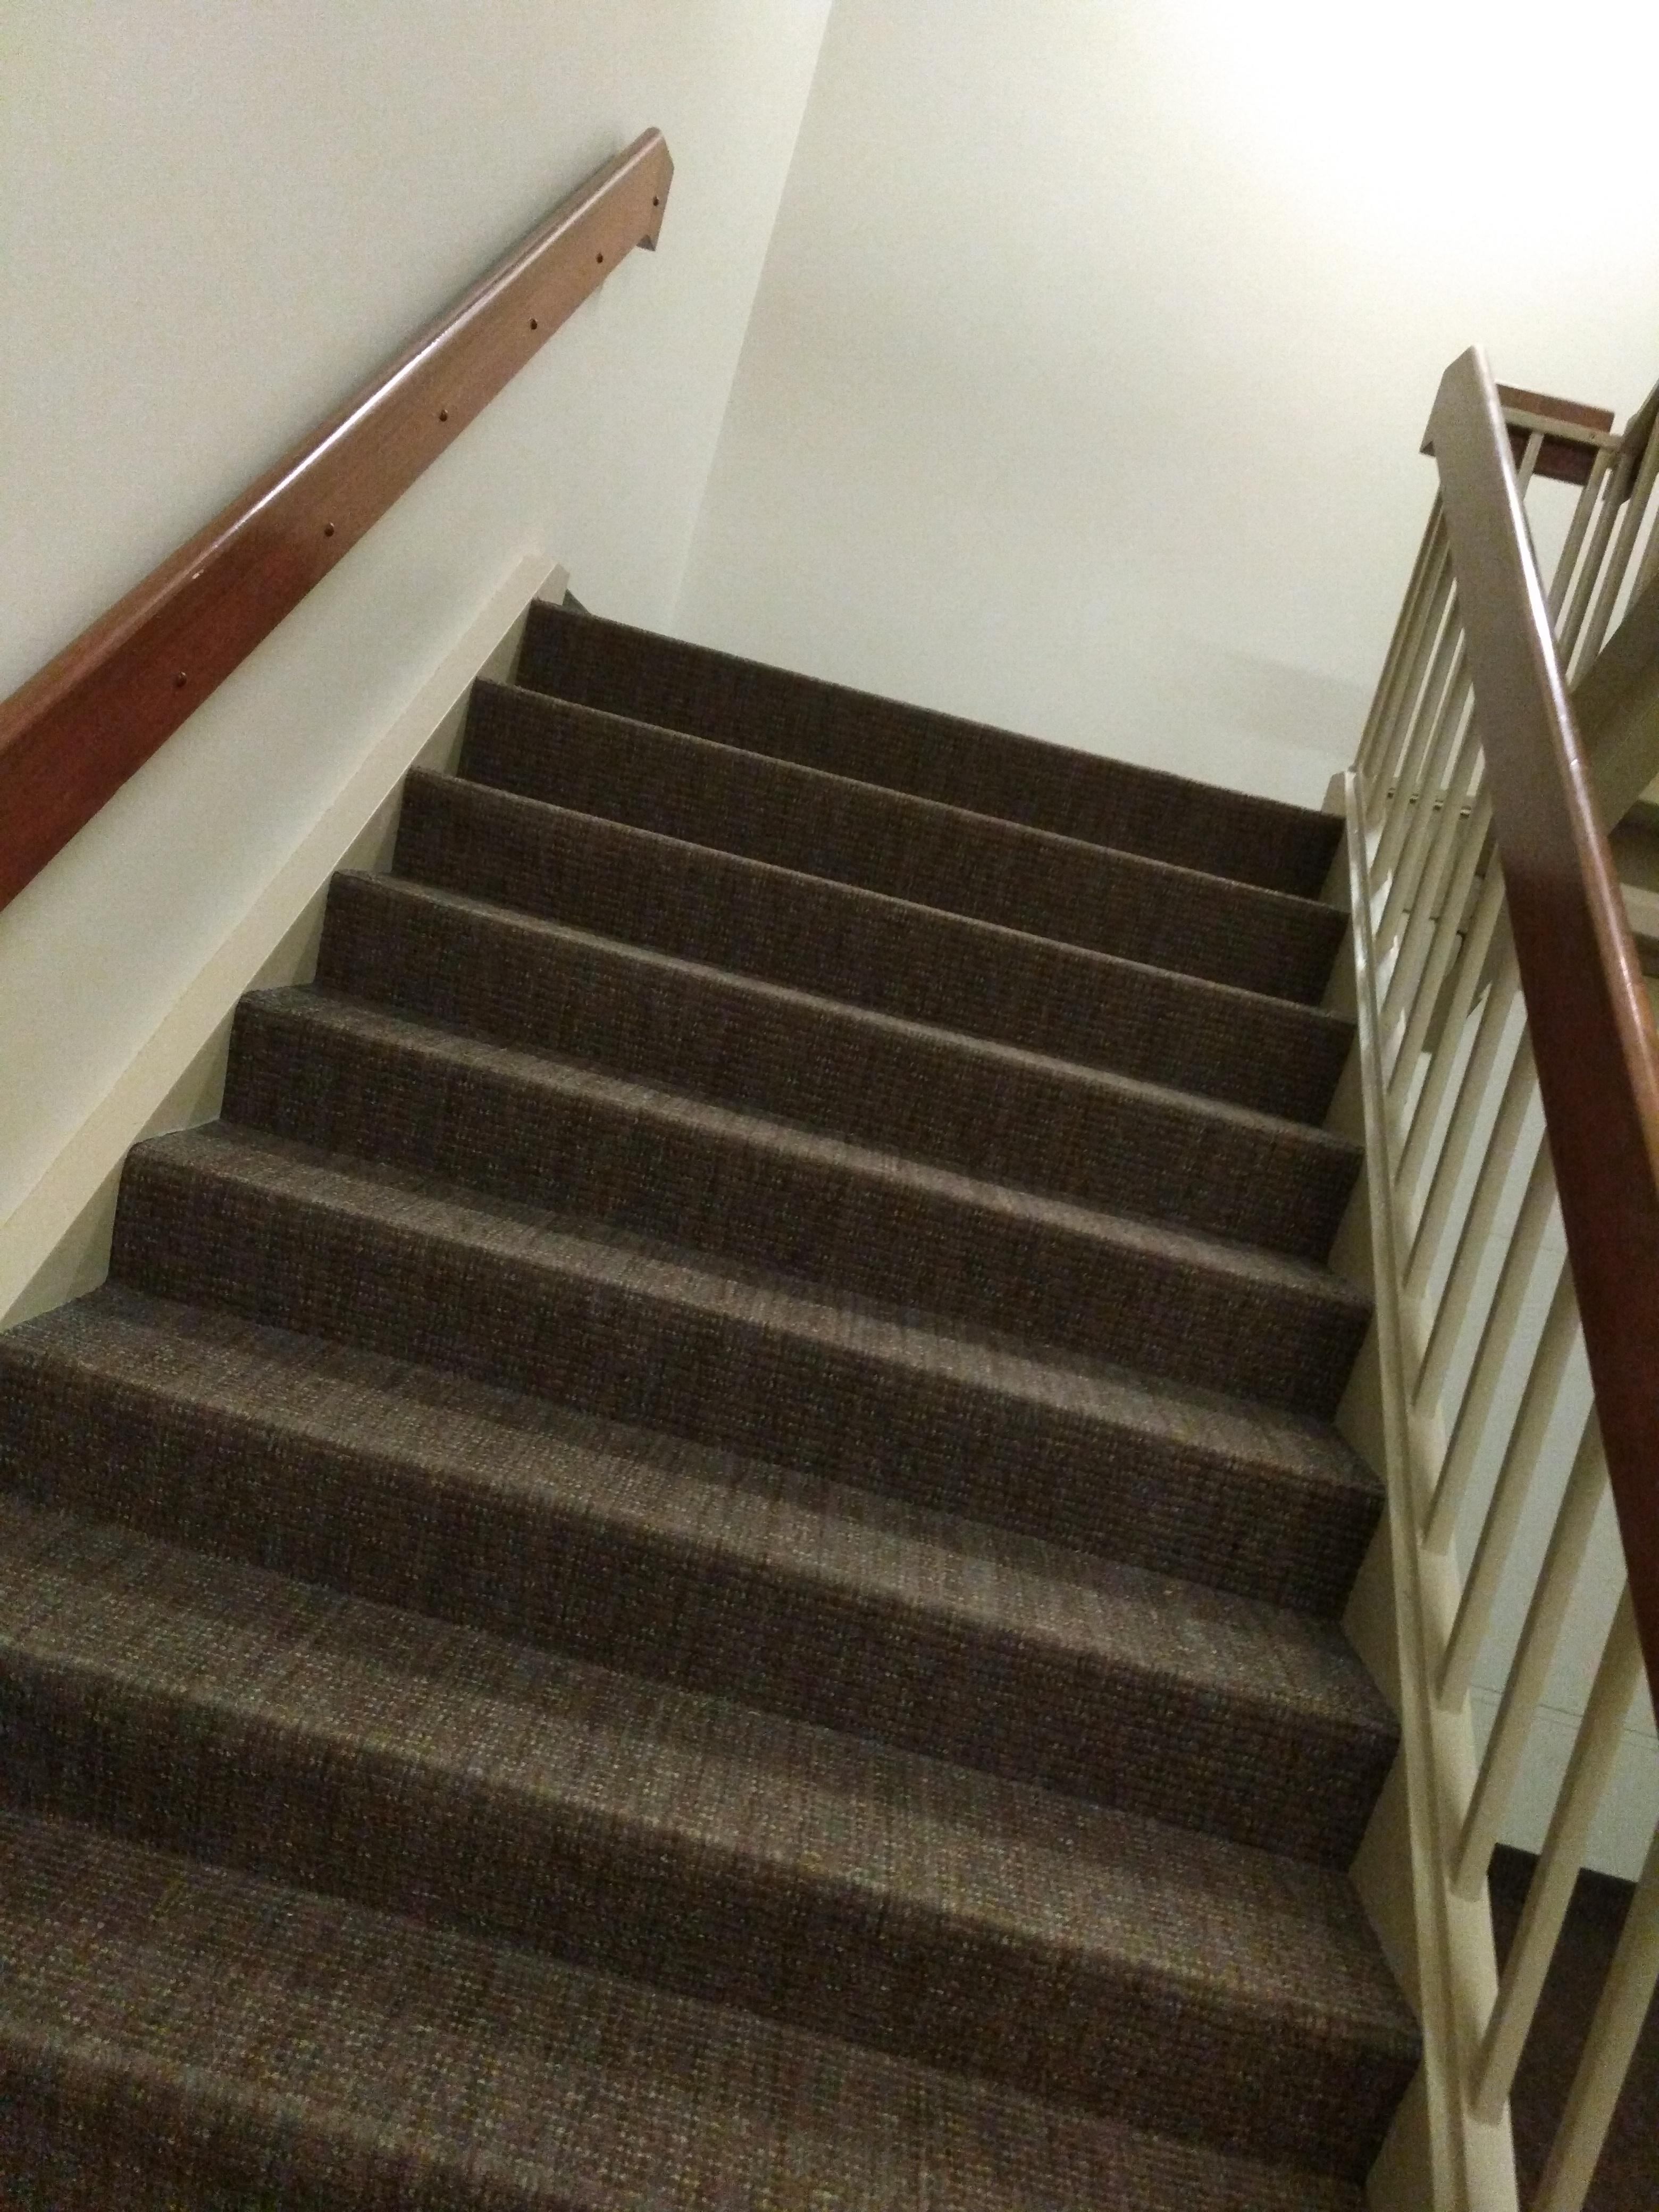stairs_up: (10, 587, 1398, 2146)
